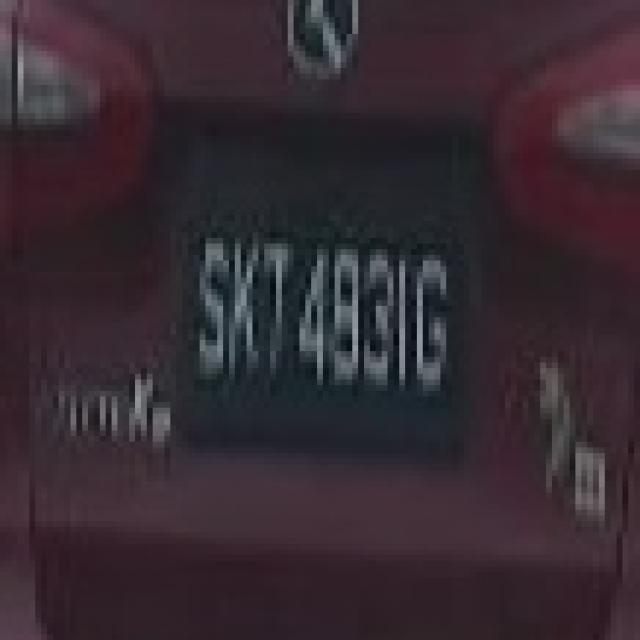1: (392, 251, 409, 390)
3: (364, 245, 397, 391)
4: (293, 245, 336, 387)
8: (331, 244, 361, 388)
G: (414, 256, 454, 391)
K: (231, 235, 259, 372)
S: (198, 241, 228, 375)
T: (262, 242, 293, 371)
